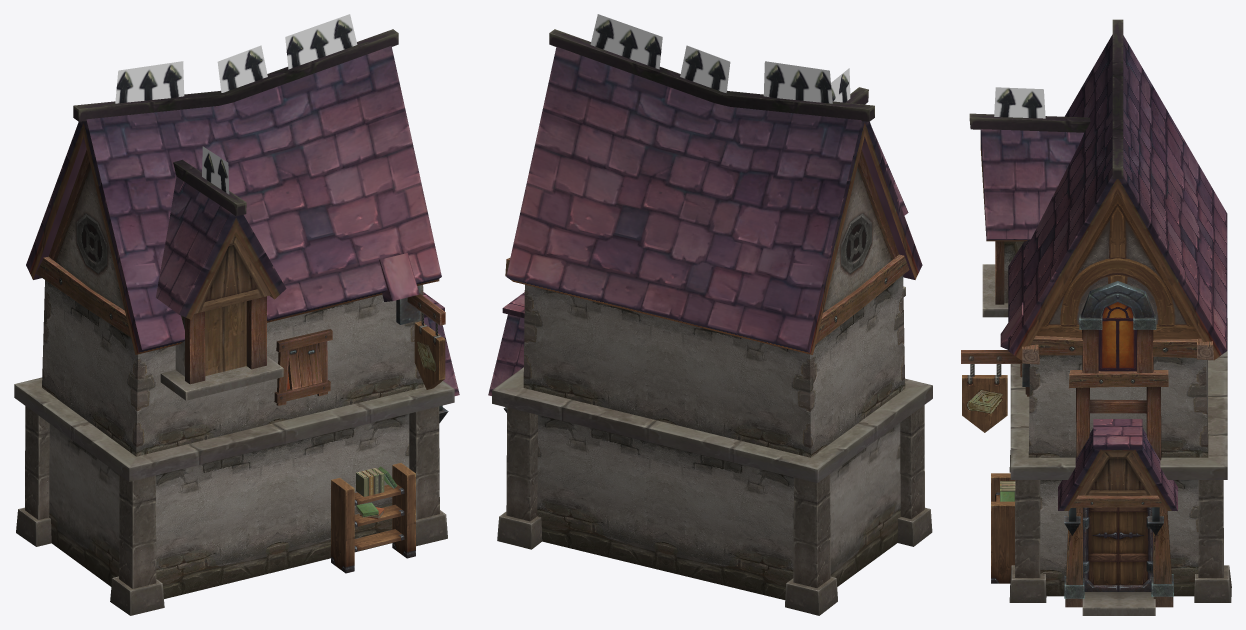
The model's file is building_city_zhuchengtushu01.FBX.
3 renders of one model, left to right at view 1: azimuth 30°, elevation 25°; view 2: azimuth 150°, elevation 25°; view 3: azimuth 270°, elevation 25°, orthographic. The views are drawn at different scales.
Visible parts, largest first — view 1: building_city_zhuchengtushu01; view 2: building_city_zhuchengtushu01; view 3: building_city_zhuchengtushu01.
Boxes of the visible parts, <box> form: building_city_zhuchengtushu01: <box>14,14,459,615</box>; building_city_zhuchengtushu01: <box>488,14,932,615</box>; building_city_zhuchengtushu01: <box>961,19,1231,615</box>.
Size of the model in its own units: 9.25 by 6.4 by 12.11.
